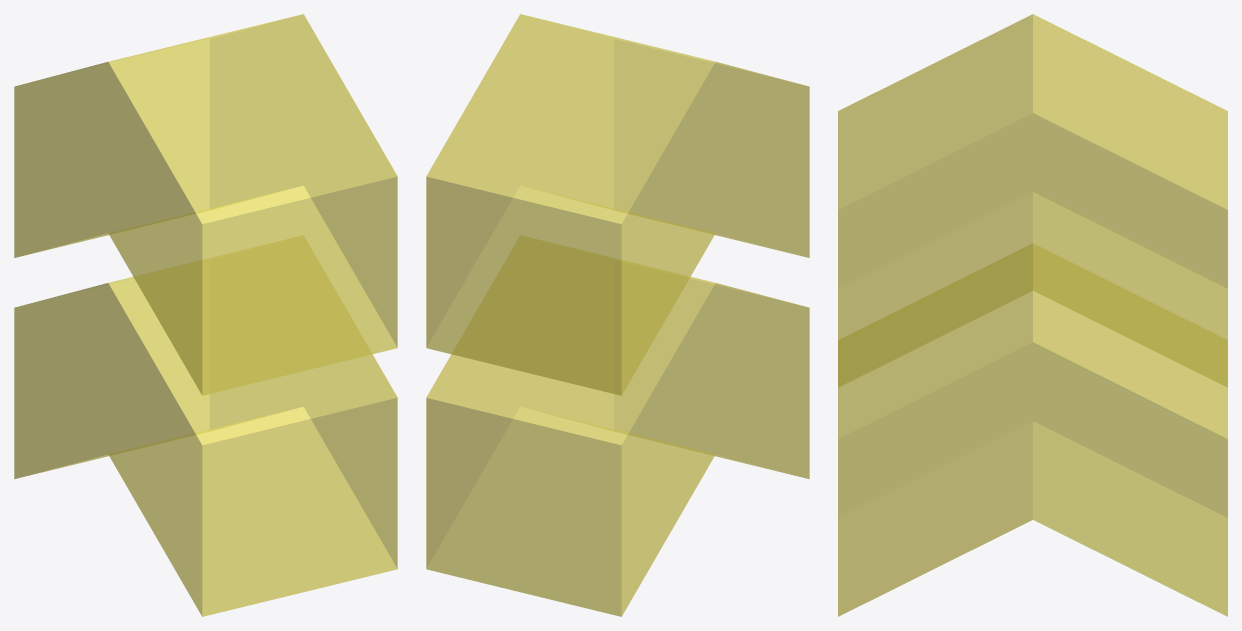
Rendered from power_up-better_bonk.fbx.
3 views of the same model, side by side, from view 1: azimuth 30°, elevation 25°; view 2: azimuth 150°, elevation 25°; view 3: azimuth 270°, elevation 25° (orthographic). The views are drawn at different scales.
Parts seen in each view (by area): view 1: powerUp-base; view 2: powerUp-base; view 3: powerUp-base.
Part boxes in pixels (box(x1,y1,x2,y2)): powerUp-base: box(14, 14, 397, 616); powerUp-base: box(426, 14, 809, 616); powerUp-base: box(838, 14, 1227, 616).
Bounding box in the file's own units: 19.71 × 46.87 × 32.85.
